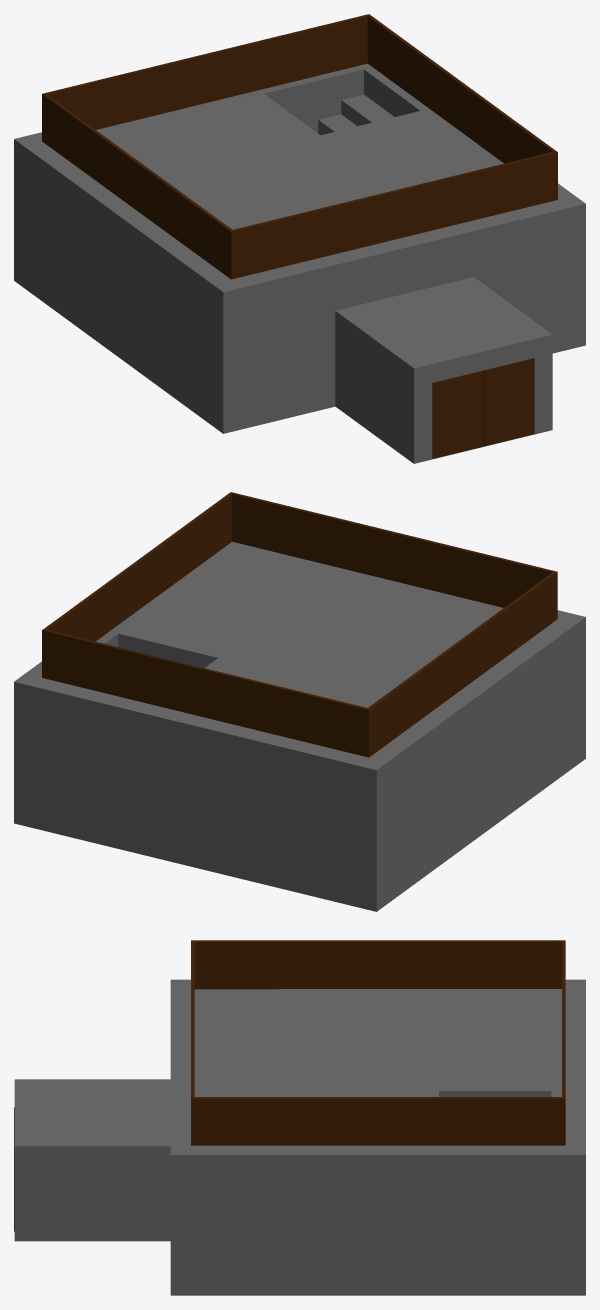
File: Storage.fbx
The picture shows the model from 3 angles, top to bottom: view 1: azimuth 30°, elevation 25°; view 2: azimuth 150°, elevation 25°; view 3: azimuth 270°, elevation 25°; orthographic projection.
Visible parts, largest first — view 1: BuildingPrefab, Plane, Door, Stairs; view 2: BuildingPrefab, Plane; view 3: BuildingPrefab, Plane.
Part boxes in pixels (x1=…): BuildingPrefab: x1=14, y1=63, x2=585, y2=463; Plane: x1=42, y1=14, x2=557, y2=279; Door: x1=432, y1=358, x2=534, y2=458; Stairs: x1=318, y1=94, x2=394, y2=135; BuildingPrefab: x1=14, y1=541, x2=585, y2=911; Plane: x1=42, y1=492, x2=557, y2=757; BuildingPrefab: x1=14, y1=979, x2=585, y2=1295; Plane: x1=191, y1=940, x2=565, y2=1145.
Size of the model in its own units: 798 by 400 by 1099.
